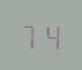four: (40, 19, 60, 50)
seven: (19, 19, 39, 49)
